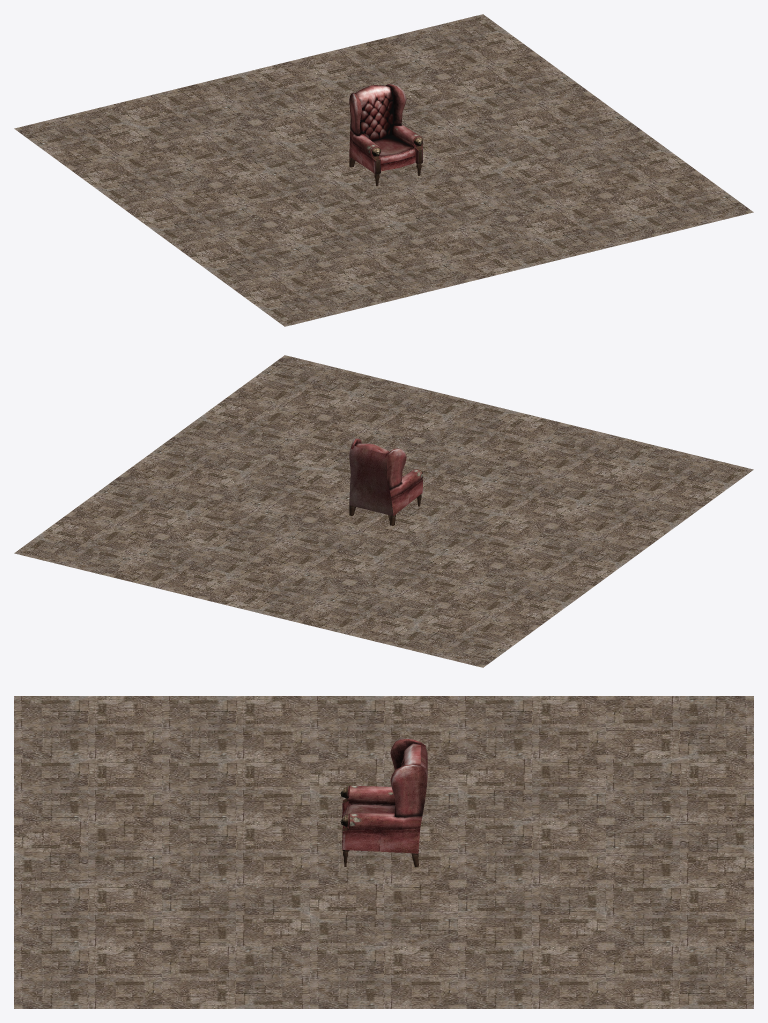
File: armchair.obj
3 views of the same model, one above another, from view 1: azimuth 30°, elevation 25°; view 2: azimuth 150°, elevation 25°; view 3: azimuth 270°, elevation 25° (orthographic). The views are drawn at different scales.
Size of the model in its own units: 16.24 by 2.49 by 16.24.
